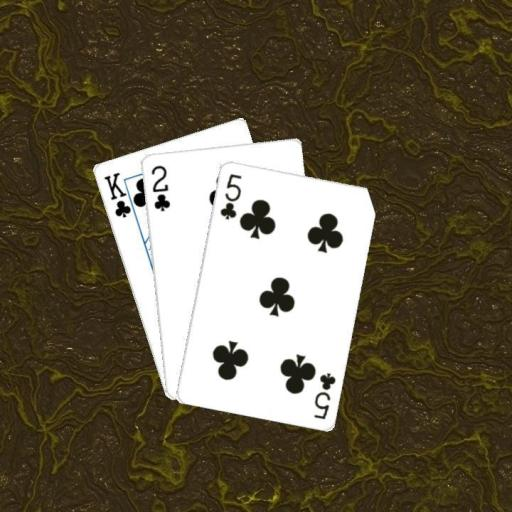2C: (148, 162, 172, 213)
5C: (216, 170, 243, 220), (311, 369, 337, 420)
KC: (100, 169, 139, 221)
